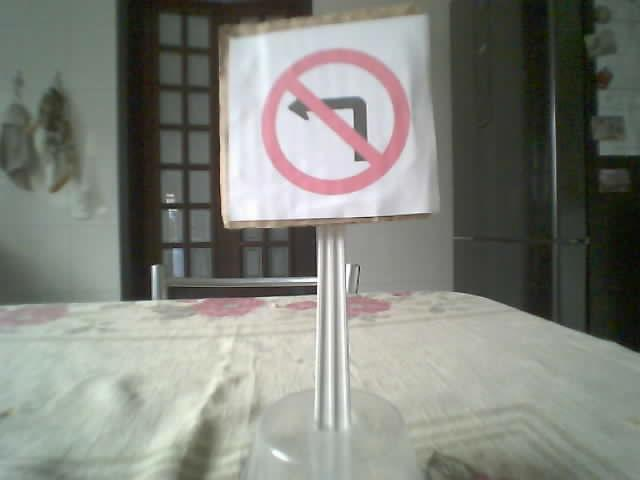R-4a_proibido-esquerda: (260, 46, 410, 196)
